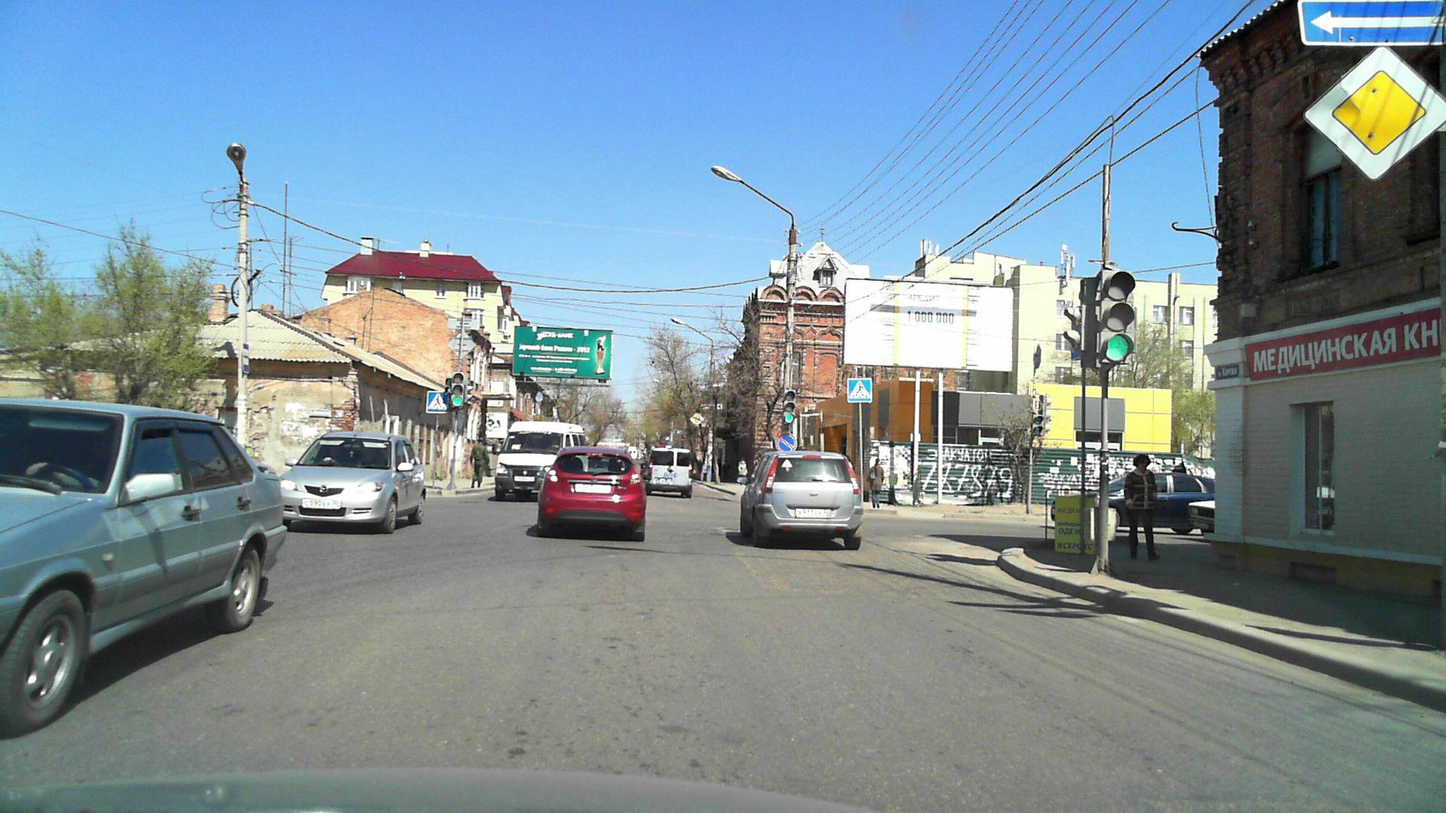off traffic light: (1063, 304, 1085, 352), (1032, 415, 1044, 436)
road_sign: (1292, 39, 1446, 185), (1294, 0, 1446, 46), (847, 378, 873, 403), (425, 391, 449, 414), (775, 434, 798, 452)
traffic light: (1099, 269, 1138, 364), (782, 389, 797, 425), (450, 372, 464, 407)
